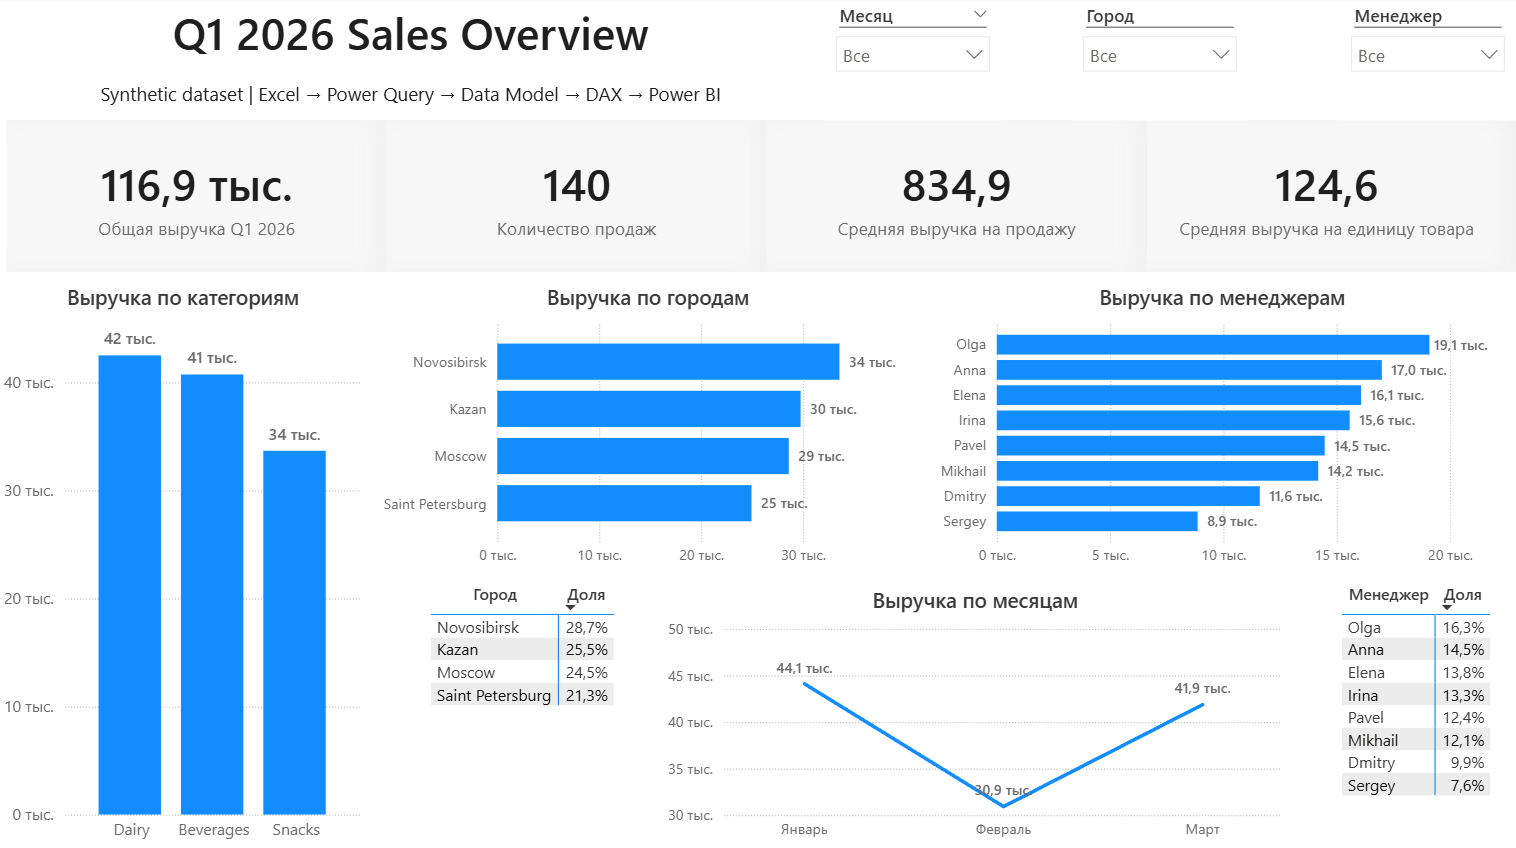

The dashboard page shown, as its layout file describes it:
{"tool":"powerbi","page":{"name":"Q1 2026 Sales Overview","canvas":[1280,720],"ordinal":0},"visuals":[{"type":"card","fields":{"Values":["Sum(fact_sales.revenue)"]},"box":[8,104,320,128],"z":0},{"type":"slicer","fields":{"Values":["dim_city.city"]},"box":[904.6,0,150.2,104],"z":1000,"group":"g1"},{"type":"clusteredColumnChart","title":"Выручка по категориям","fields":{"Y":["Sum(fact_sales.revenue)"],"Category":["dim_product.category"]},"box":[0,240,312,480],"z":1000},{"type":"clusteredBarChart","title":"Выручка по менеджерам","fields":{"Category":["dim_manager.manager"],"Y":["Sum(fact_sales.revenue)"]},"box":[784,240,496,248],"z":2000},{"type":"slicer","fields":{"Values":["dim_manager.manager"]},"box":[1129.8,0,150.2,104],"z":3000,"group":"g1"},{"type":"clusteredBarChart","title":"Выручка по городам","fields":{"Category":["dim_city.city"],"Y":["Sum(fact_sales.revenue)"]},"box":[312,240,472,248],"z":3000},{"type":"lineChart","title":"Выручка по месяцам","fields":{"Y":["Sum(fact_sales.revenue)"],"Category":["dim_date.order_date.Изменение.Иерархия дат.Месяц"]},"box":[560,496,528,224],"z":4000},{"type":"slicer","fields":{"Values":["dim_date.order_date.Изменение.Иерархия дат.Месяц"]},"box":[696,0,150.2,104],"z":5000,"group":"g1"},{"type":"pivotTable","fields":{"Values":["fact_sales.Доля выручки города"],"Rows":["dim_city.city"]},"box":[360,488,168,120],"z":6000},{"type":"pivotTable","fields":{"Values":["fact_sales.Доля выручки менеджера"],"Rows":["dim_manager.manager"]},"box":[1128,488,152,200],"z":7000},{"type":"card","fields":{"Values":["fact_sales.Количество строк продаж"]},"box":[328,104,320,128],"z":8000},{"type":"card","fields":{"Values":["fact_sales.Средняя выручка на единицу товара"]},"box":[960,104,320,128],"z":9000},{"type":"card","fields":{"Values":["fact_sales.Средняя выручка на строку продажи"]},"box":[648,104,320,128],"z":10000},{"type":"textbox","box":[0,0,696,104],"z":11000},{"type":"group","id":"g1","title":"Группа 1","box":[696,0,584,104],"z":12000}]}

Visuals, with their boxes in screenshot pixels (x1, y1, x2, y2), scaled from the page's 1280x720 canvas onto the 1516x848 screenshot:
card - Sum(fact_sales.revenue): <box>9,122,388,273</box>
slicer - dim_city.city: <box>1071,0,1249,122</box>
"Выручка по категориям" clusteredColumnChart: <box>0,283,370,847</box>
"Выручка по менеджерам" clusteredBarChart: <box>929,283,1515,575</box>
slicer - dim_manager.manager: <box>1338,0,1515,122</box>
"Выручка по городам" clusteredBarChart: <box>370,283,929,575</box>
"Выручка по месяцам" lineChart: <box>663,584,1289,847</box>
slicer - dim_date.order_date.Изменение.Иерархия дат.Месяц: <box>824,0,1002,122</box>
pivotTable - fact_sales.Доля выручки города x dim_city.city: <box>426,575,625,716</box>
pivotTable - fact_sales.Доля выручки менеджера x dim_manager.manager: <box>1336,575,1515,810</box>
card - fact_sales.Количество строк продаж: <box>388,122,767,273</box>
card - fact_sales.Средняя выручка на единицу товара: <box>1137,122,1515,273</box>
card - fact_sales.Средняя выручка на строку продажи: <box>767,122,1146,273</box>
textbox: <box>0,0,824,122</box>
"Группа 1" group: <box>824,0,1515,122</box>
